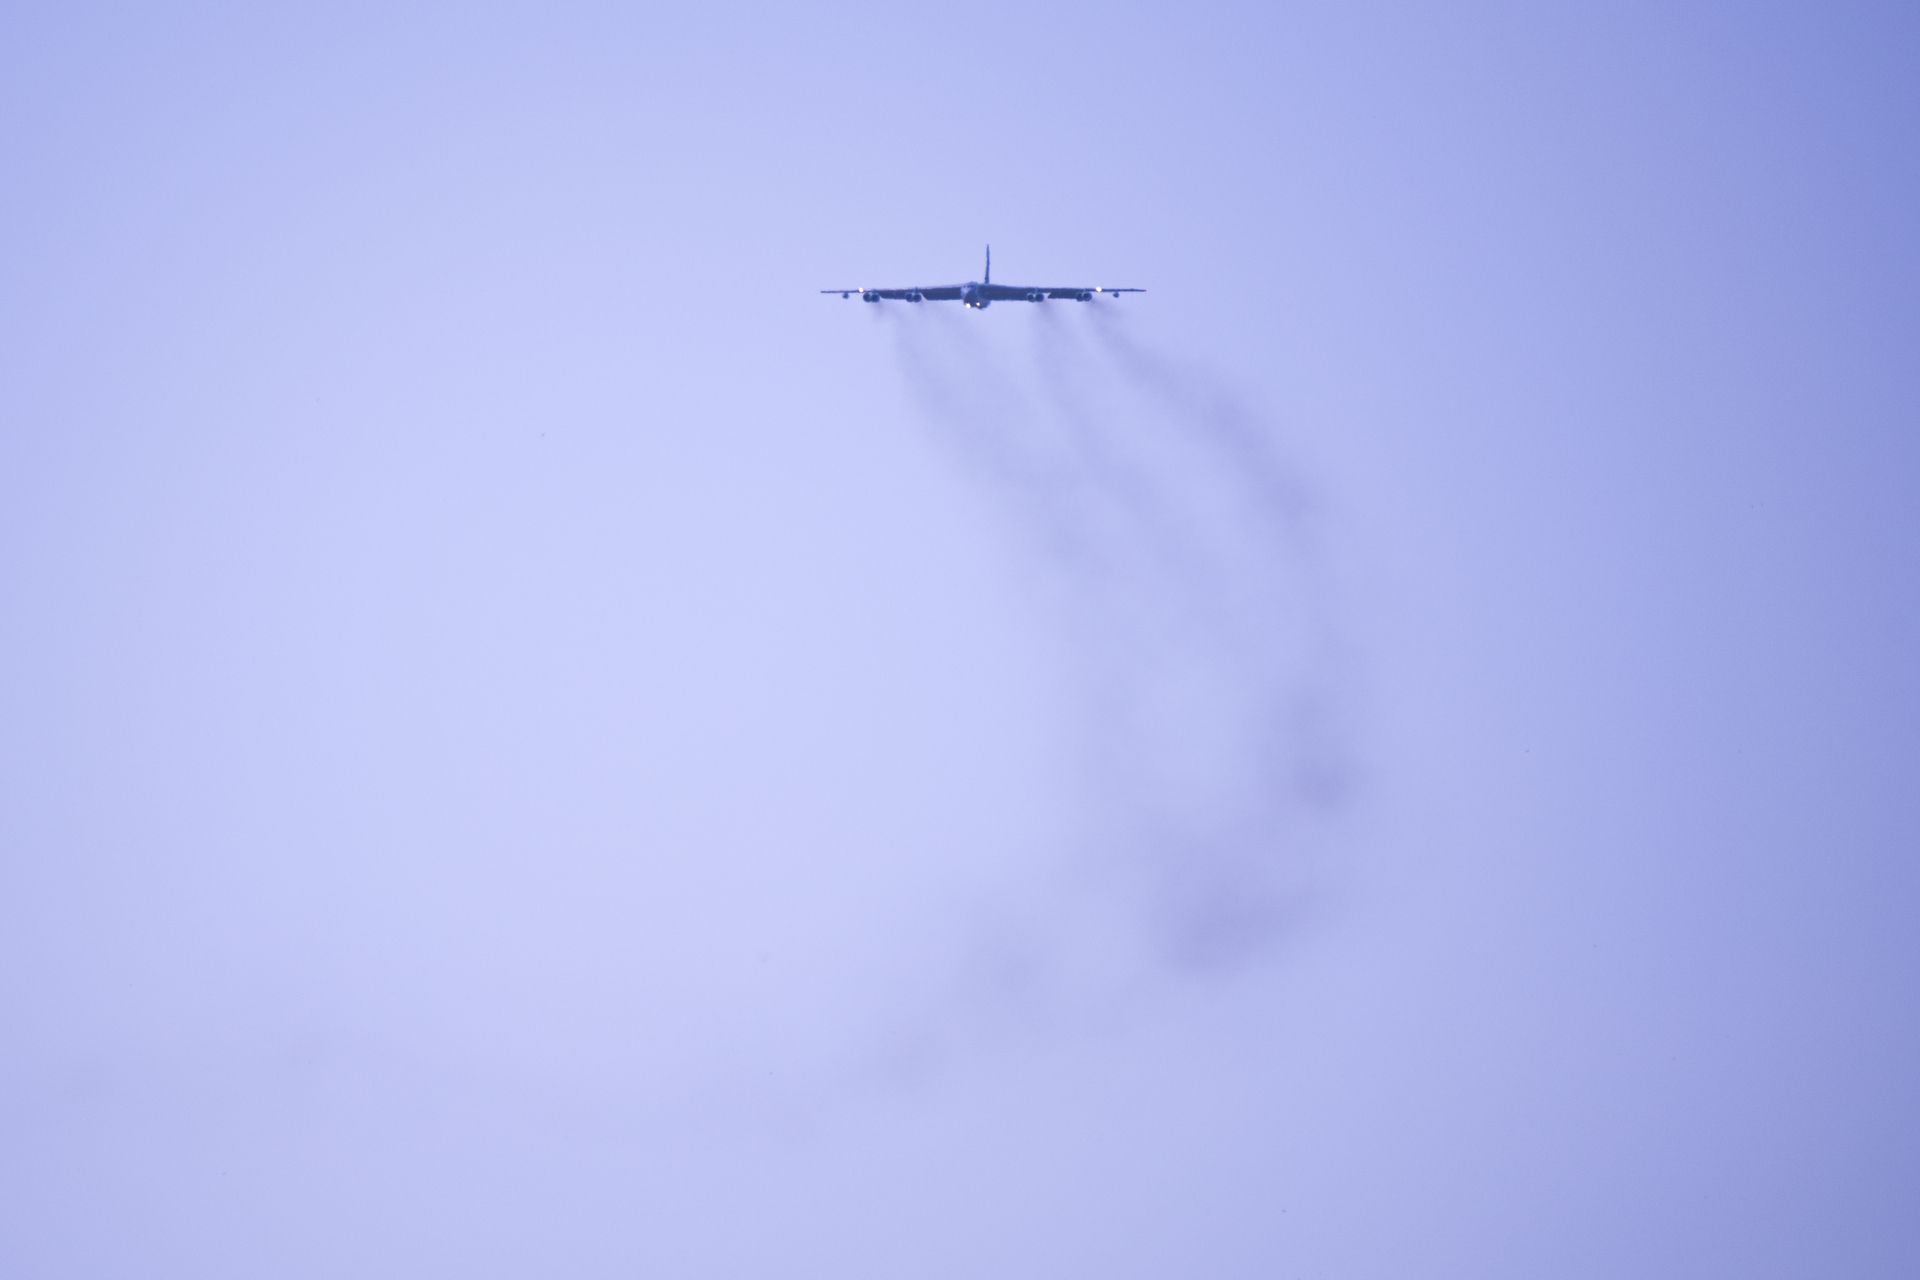B52: (820, 243, 1147, 311)
